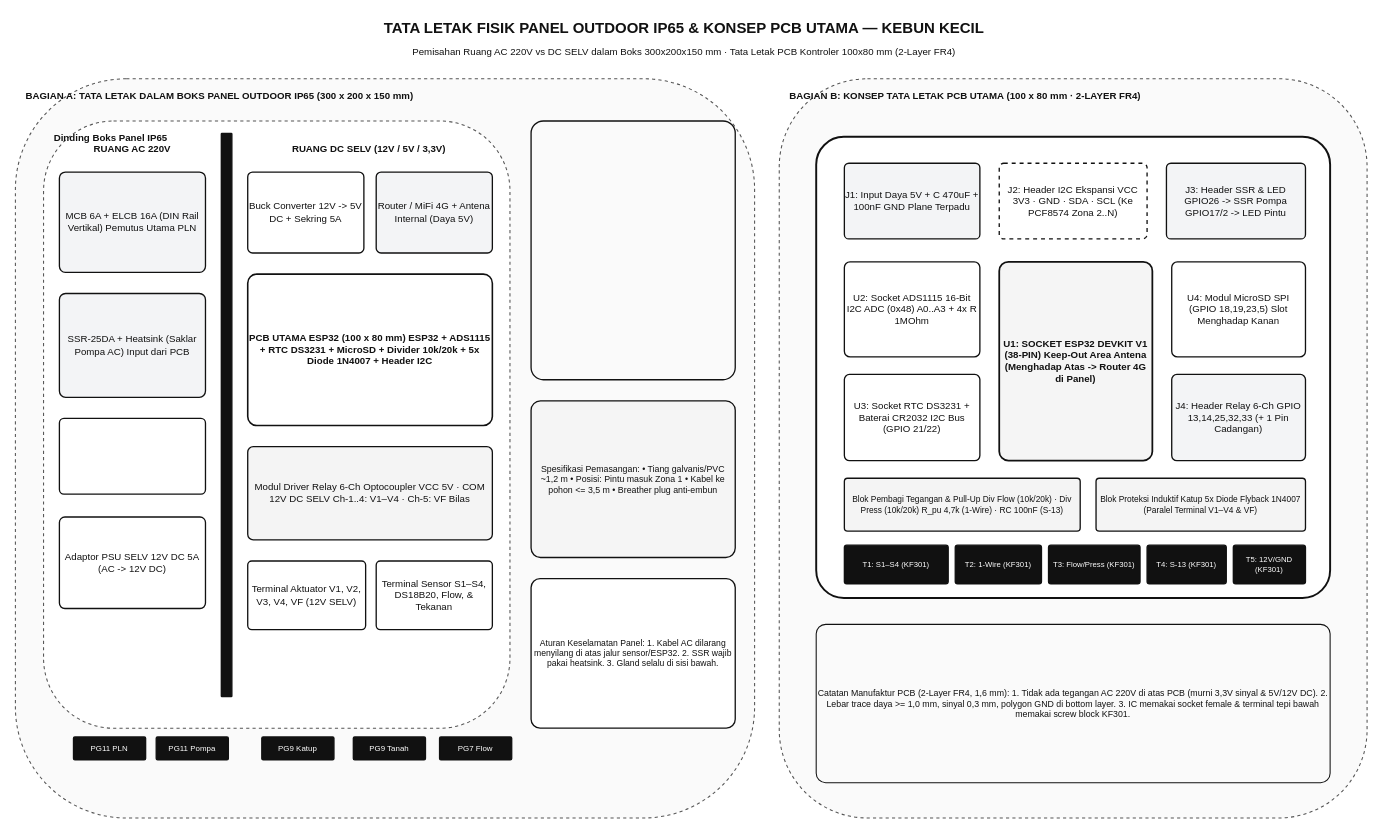
This 1383x833 diagram has some shape labels left out. The centre of each missing label's shape, as x and y in pixels:
"TAMPAK PINTU DEPAN PANEL [ Tombol IP65 S-13 / STOP ] ( LED RUN ) ( LED ALARM )" belongs at point 633,250.
"Terminal Blok AC PLN L/N/PE & Pompa AC Out" belongs at point 132,455.
